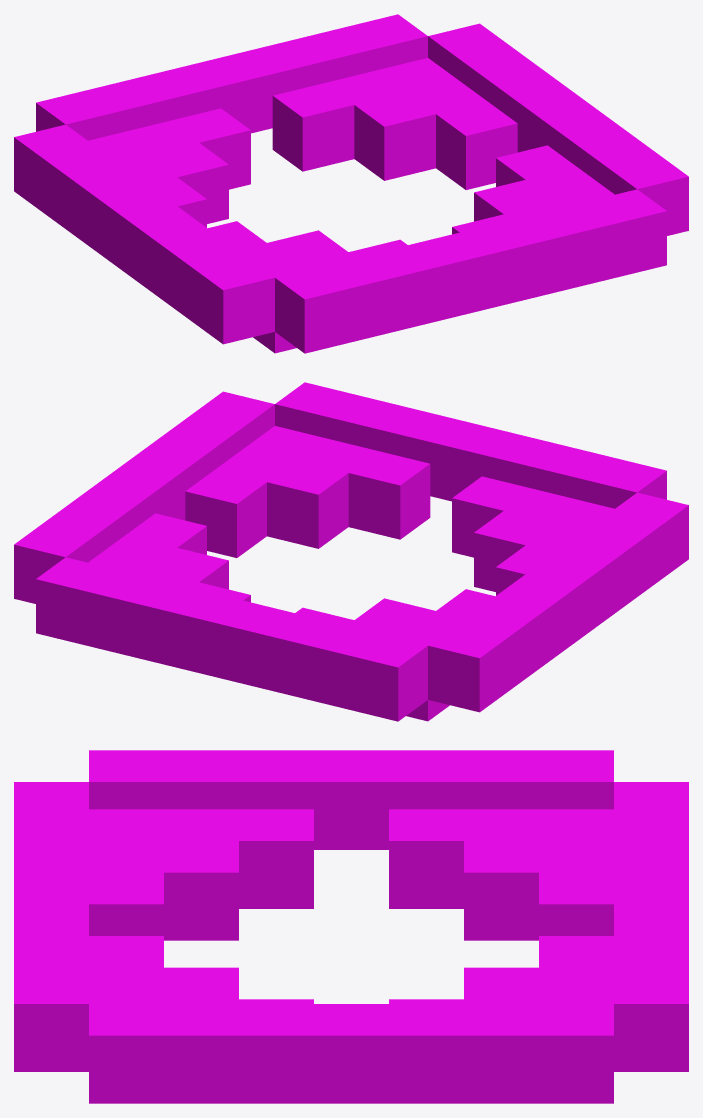
File: PurpleBlock_ShipHolder.fbx
3 renders of one model, top to bottom at view 1: azimuth 30°, elevation 25°; view 2: azimuth 150°, elevation 25°; view 3: azimuth 270°, elevation 25°, orthographic. The views are drawn at different scales.
Parts seen in each view (by area): view 1: Cube.007; view 2: Cube.007; view 3: Cube.007.
Boxes of the visible parts, x1,y1,x2,y2 form: Cube.007: (14,14,688,353); Cube.007: (14,382,688,721); Cube.007: (14,750,688,1103).
Bounding box in the file's own units: 9 × 1.4 × 9.
